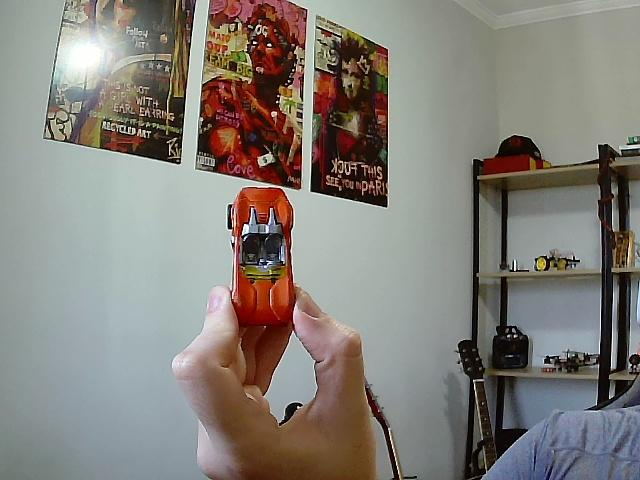Carro: (230, 187, 297, 329)
